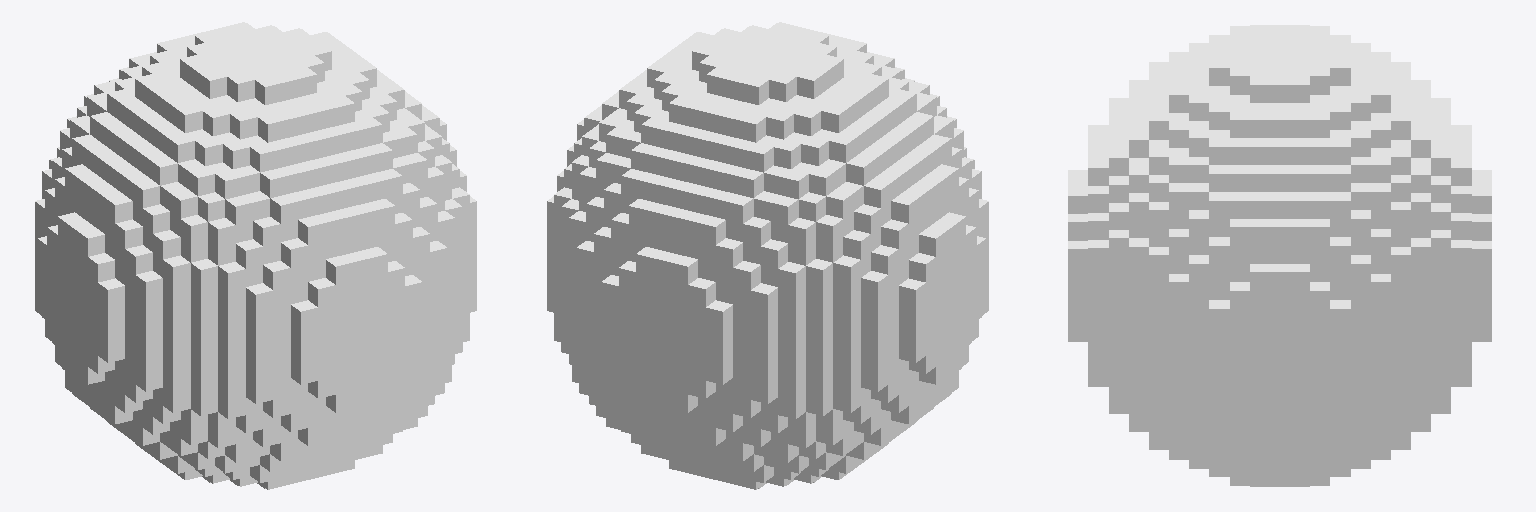
File: voxsphere.obj
3 renders of one model, left to right at view 1: azimuth 30°, elevation 25°; view 2: azimuth 150°, elevation 25°; view 3: azimuth 270°, elevation 25°, orthographic.
Parts seen in each view (by area): view 1: object 1; view 2: object 1; view 3: object 1.
Part boxes in pixels (bbox=[...]): object 1: bbox=[35, 22, 476, 489]; object 1: bbox=[547, 22, 988, 489]; object 1: bbox=[1068, 25, 1491, 486].
Bounding box in the file's own units: 2.1 × 2.2 × 2.1.